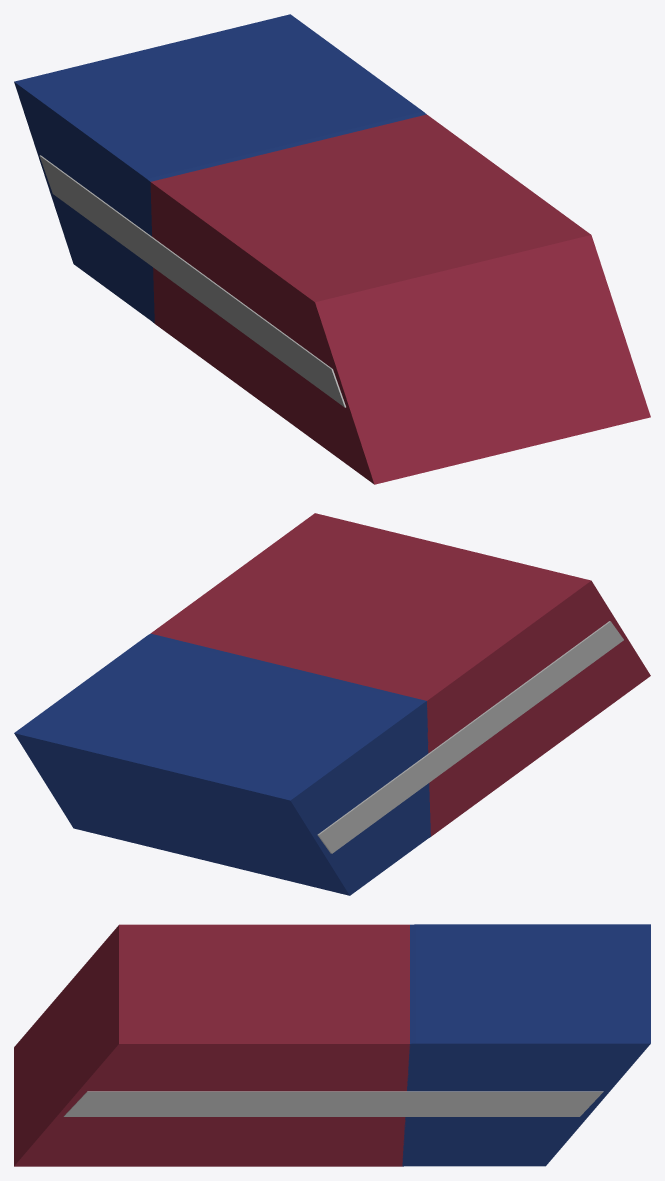
File: eraser.glb
The picture shows the model from 3 angles, top to bottom: view 1: azimuth 30°, elevation 25°; view 2: azimuth 150°, elevation 25°; view 3: azimuth 270°, elevation 25°; orthographic projection. The views are drawn at different scales.
Visible parts, largest first — view 1: Cube.001, Cube.003, Cube, Cube.004; view 2: Cube.001, Cube.003, Cube, Cube.004; view 3: Cube.001, Cube.003, Cube.004.
Part boxes in pixels (left/top/right/bottom): Cube.001: left=150, top=114, right=650, bottom=484; Cube.003: left=14, top=14, right=426, bottom=181; Cube: left=14, top=82, right=154, bottom=323; Cube.004: left=39, top=155, right=345, bottom=407; Cube.001: left=151, top=513, right=650, bottom=836; Cube.003: left=14, top=633, right=426, bottom=800; Cube: left=14, top=701, right=430, bottom=895; Cube.004: left=317, top=621, right=623, bottom=853; Cube.001: left=14, top=924, right=409, bottom=1166; Cube.003: left=402, top=924, right=650, bottom=1166; Cube.004: left=63, top=1091, right=603, bottom=1116.
Bounding box in the file's own units: 1.55 × 0.7363 × 3.46.
